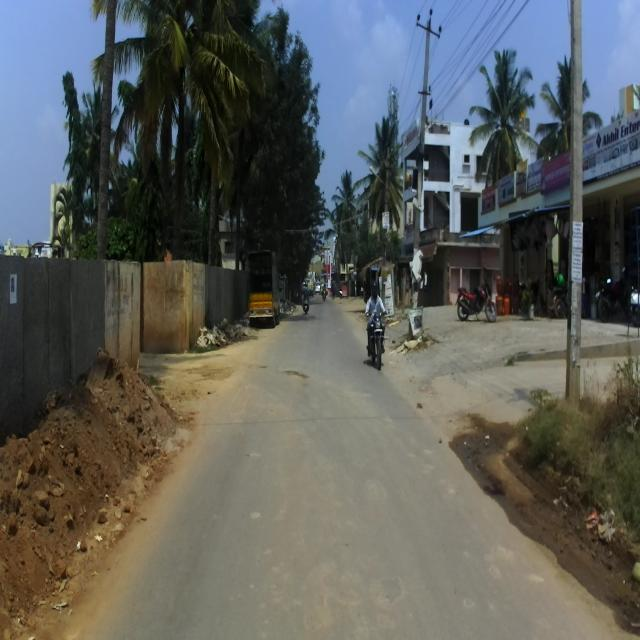electric pole ahead at: (560, 0, 594, 402), (406, 5, 445, 328)
truck ahead at: (243, 249, 281, 327)
